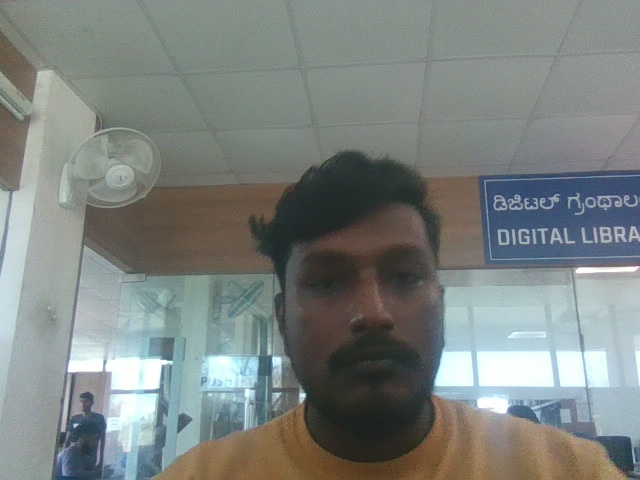real: (259, 135, 471, 435)
